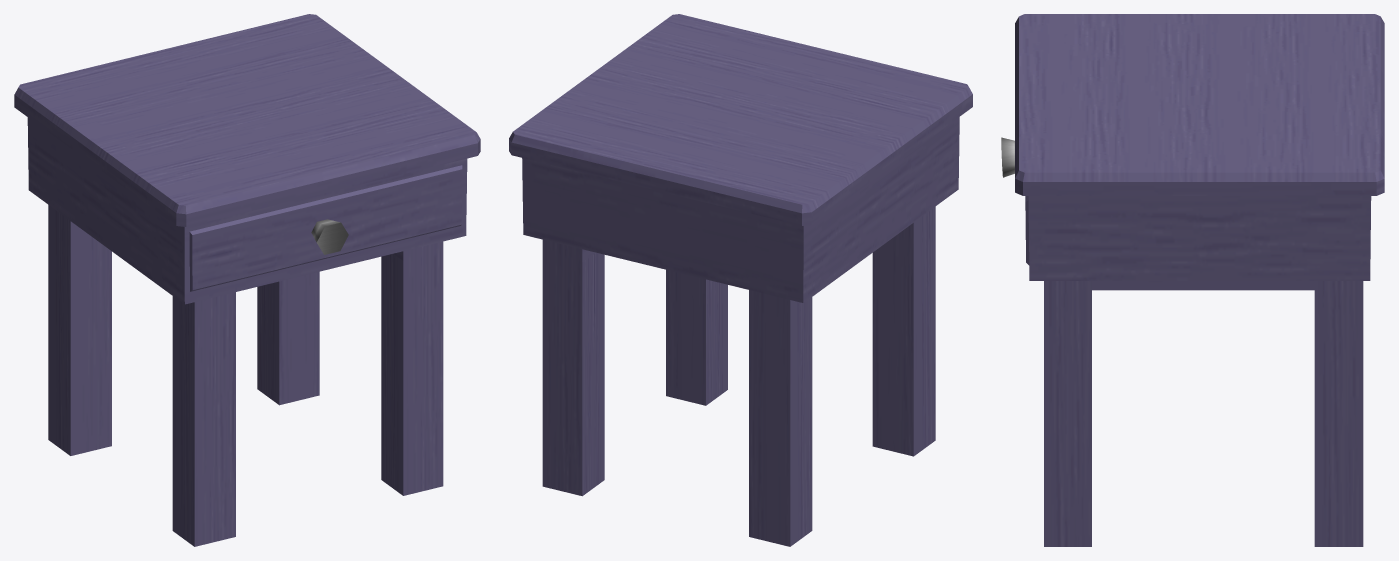
The model's file is Basic_Endtable_F.FBX.
The picture shows the model from 3 angles, left to right: view 1: azimuth 30°, elevation 25°; view 2: azimuth 150°, elevation 25°; view 3: azimuth 270°, elevation 25°; orthographic projection. The views are drawn at different scales.
Parts seen in each view (by area): view 1: End Table; view 2: End Table; view 3: End Table.
Part boxes in pixels (left/top/right/bottom): End Table: left=14, top=14, right=480, bottom=546; End Table: left=509, top=14, right=972, bottom=546; End Table: left=1001, top=14, right=1384, bottom=546.
Bounding box in the file's own units: 88.66 × 98.76 × 88.61.
